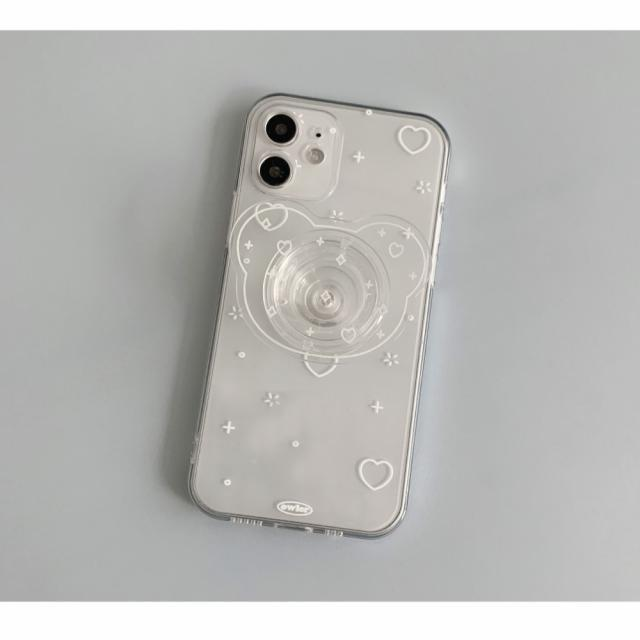phone: (185, 91, 452, 538)
